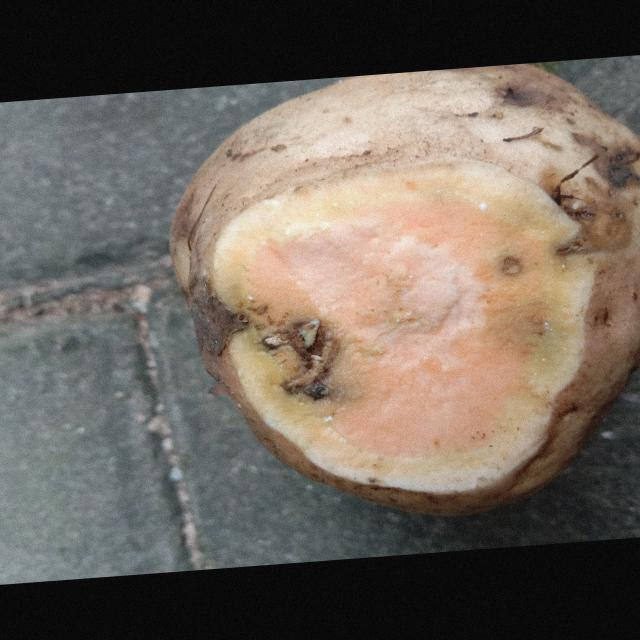Sick Sweet Potato_Tuber Rot: (213, 162, 593, 492)
